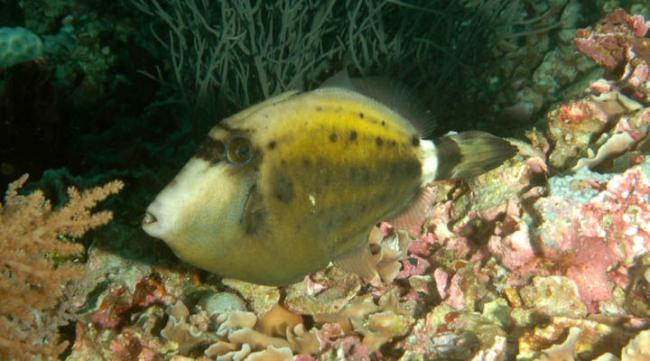fish: (145, 73, 521, 285)
